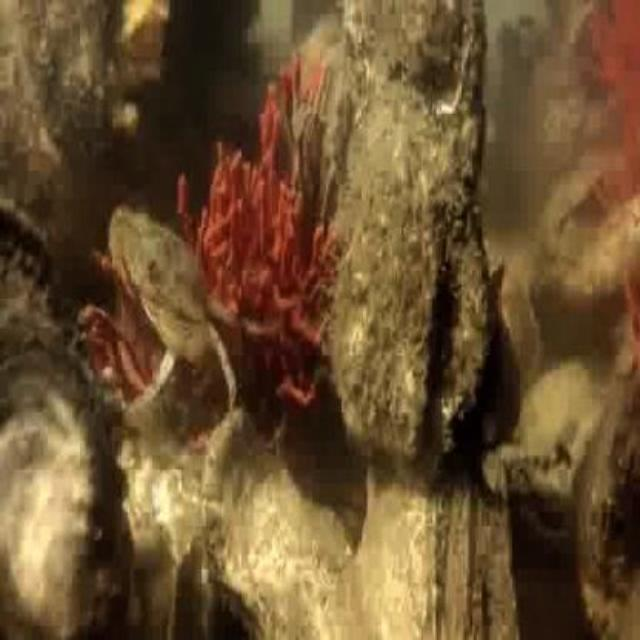Oyster-Closed: (0, 277, 131, 638)
Oyster-Open: (322, 0, 491, 482), (0, 199, 53, 295)
